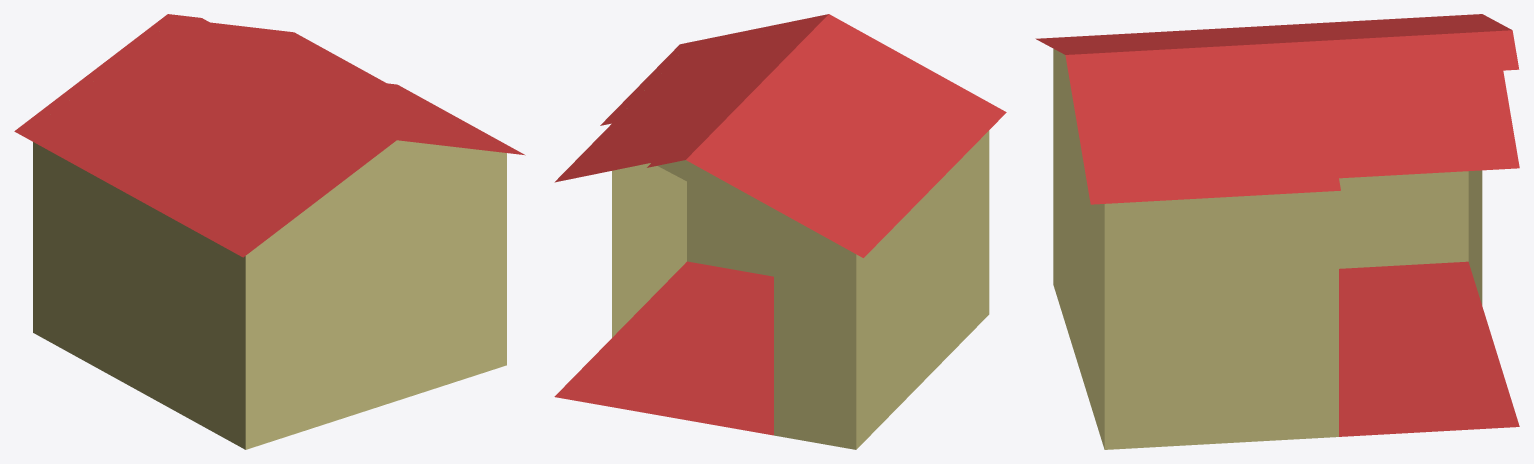
3 views of the same model, side by side, from view 1: azimuth 30°, elevation 25°; view 2: azimuth 150°, elevation 25°; view 3: azimuth 270°, elevation 25° (orthographic). The views are drawn at different scales.
Bounding box in the file's own units: 14.9 × 14.99 × 10.96.
